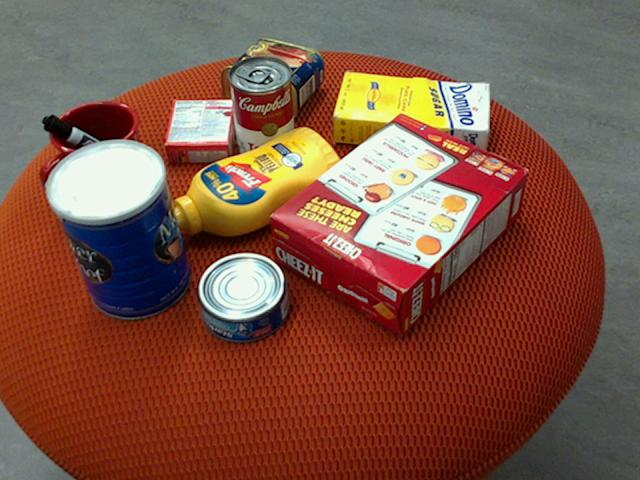cracker_box: (270, 112, 530, 333)
gelatin_box: (163, 97, 237, 163)
large_marker: (42, 114, 144, 179)
master_chef_can: (43, 139, 191, 320)
mug: (43, 100, 148, 206)
mustard_bottle: (160, 126, 346, 236)
potted_meat_can: (221, 38, 325, 121)
sugar_box: (333, 72, 491, 154)
tomato_soup_can: (228, 54, 295, 164)
tuna_fish_can: (197, 253, 291, 343)
